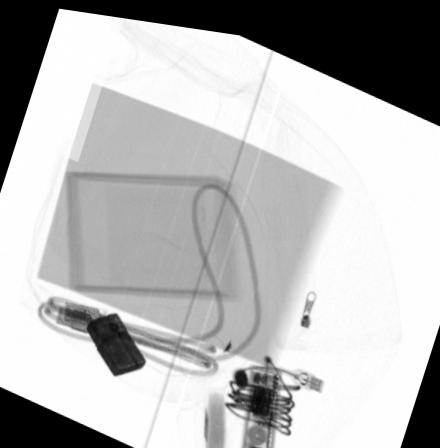Lighter: (83, 308, 146, 374)
